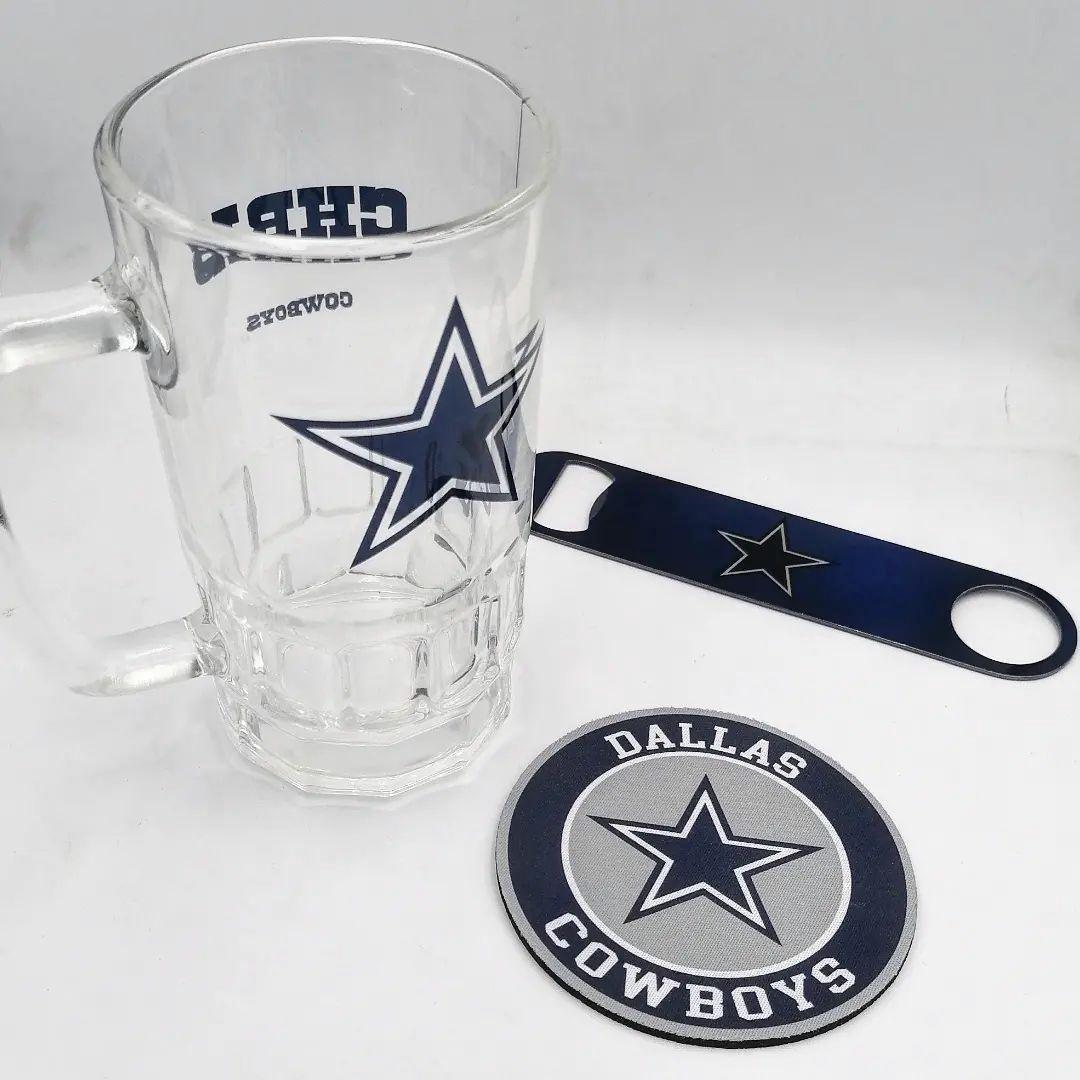glass-mug: (0, 24, 575, 820)
